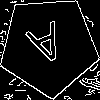A: (23, 21, 72, 76)
